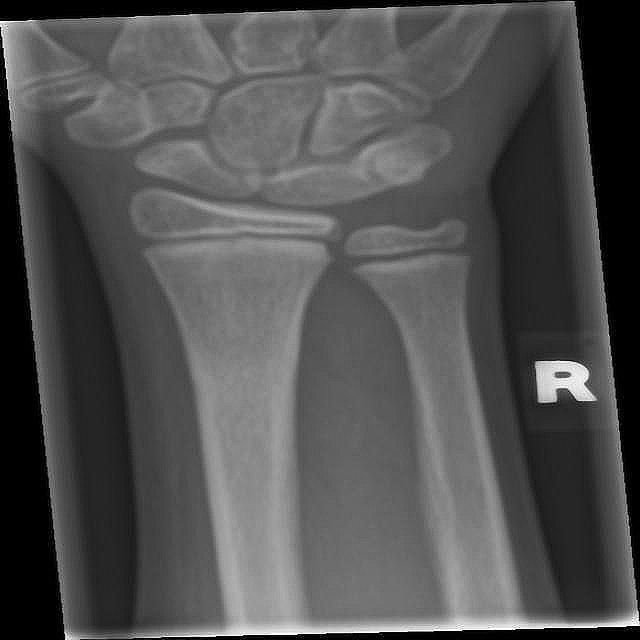bone: (177, 309, 310, 457)
